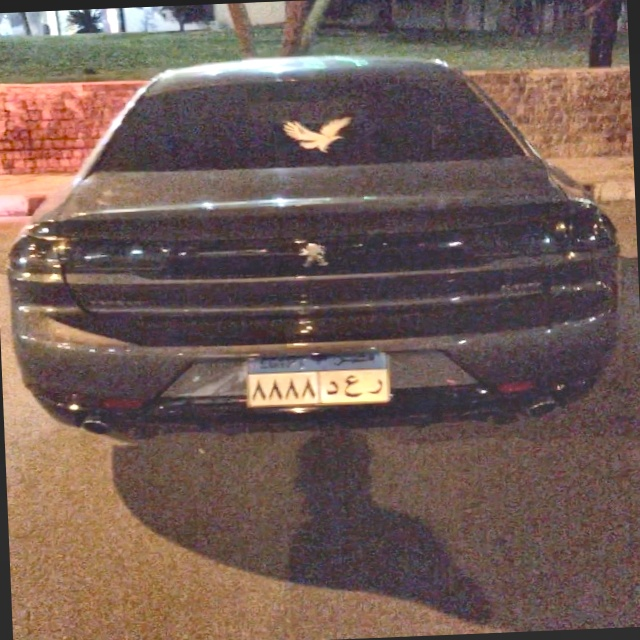License Plate: (242, 349, 393, 409)
